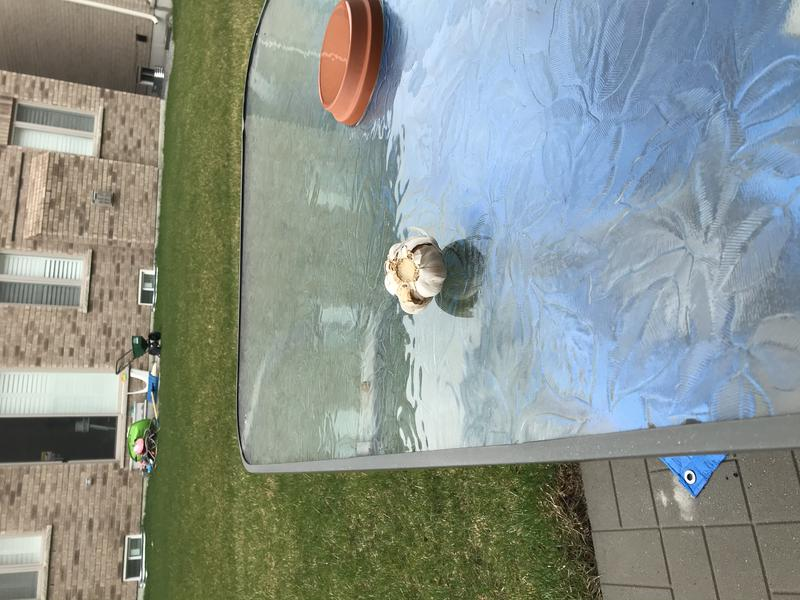garlic: (379, 228, 451, 312)
